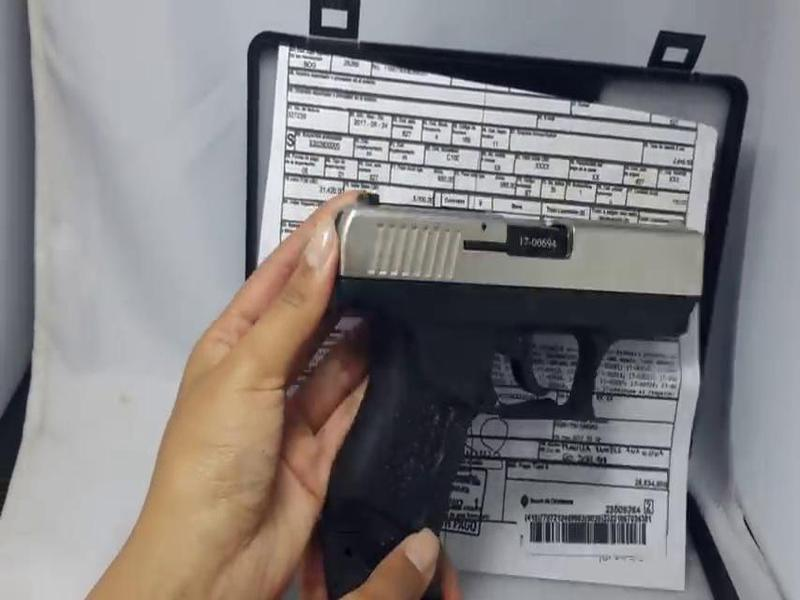Pistola: (297, 179, 717, 600)
